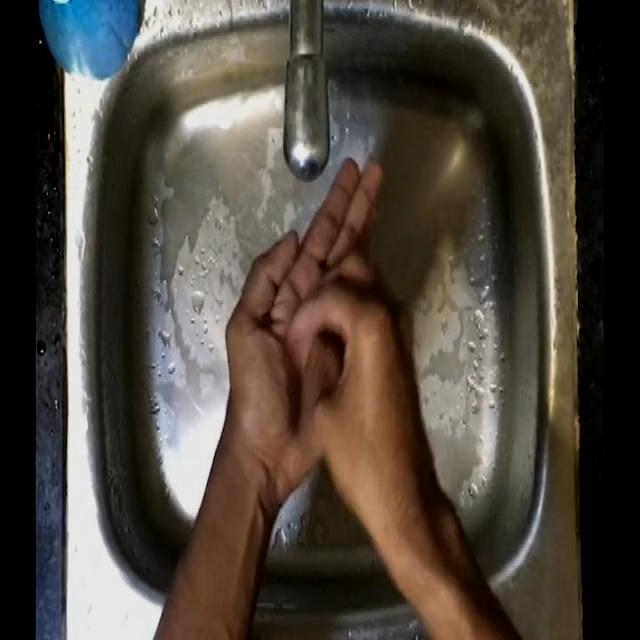step_6: (222, 148, 428, 514)
